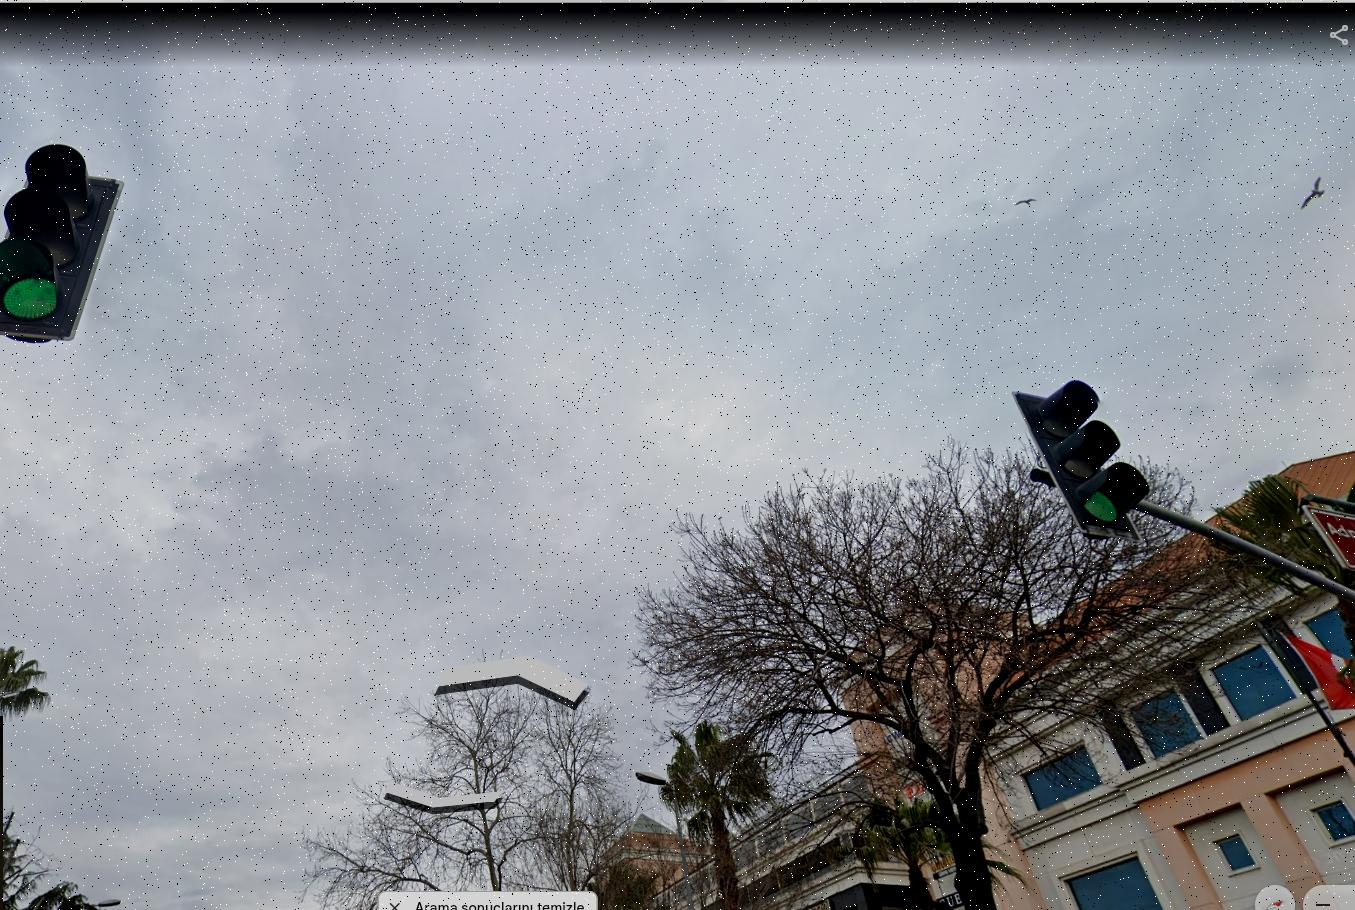greenlight: (2, 132, 129, 349), (1013, 372, 1151, 552)
